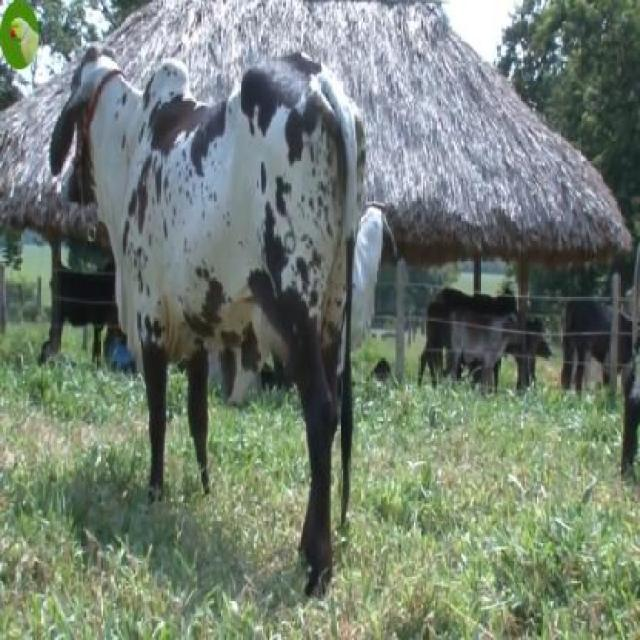Cow: (52, 49, 366, 618)
